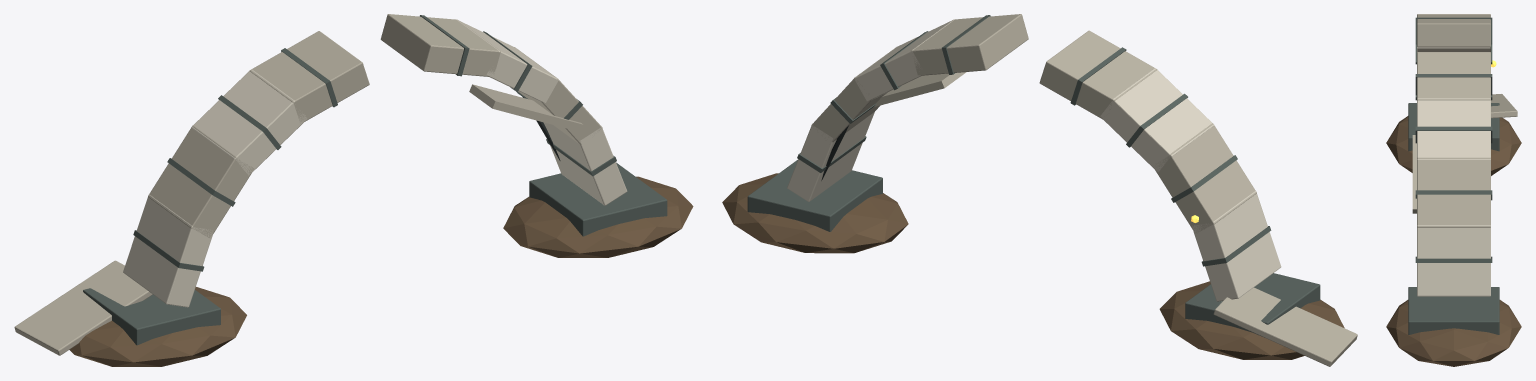
File: env_ship_rib.glb
3 renders of one model, left to right at view 1: azimuth 30°, elevation 25°; view 2: azimuth 150°, elevation 25°; view 3: azimuth 270°, elevation 25°, orthographic. The views are drawn at different scales.
Visible parts, largest first — view 1: env_ship_rib; view 2: env_ship_rib; view 3: env_ship_rib.
Boxes of the visible parts, <box> form: env_ship_rib: <box>14,14,693,366</box>; env_ship_rib: <box>722,14,1357,366</box>; env_ship_rib: <box>1386,14,1521,366</box>.
Bounding box in the file's own units: 14.3 × 5.47 × 3.12.
